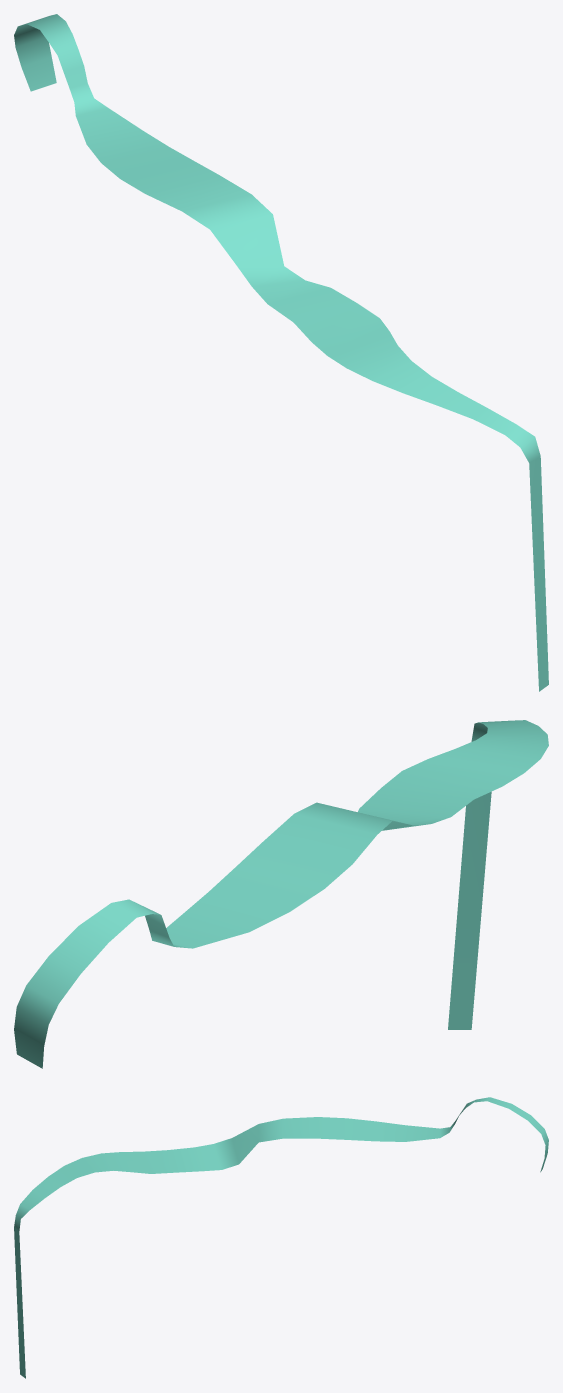
The model's file is Mesh_Home_RF_River_04_SM.fbx.
3 renders of one model, top to bottom at view 1: azimuth 30°, elevation 25°; view 2: azimuth 150°, elevation 25°; view 3: azimuth 270°, elevation 25°, orthographic. The views are drawn at different scales.
Parts seen in each view (by area): view 1: Mesh_Home_RF_River_04; view 2: Mesh_Home_RF_River_04; view 3: Mesh_Home_RF_River_04.
Boxes of the visible parts, <box> form: Mesh_Home_RF_River_04: <box>14,14,548,691</box>; Mesh_Home_RF_River_04: <box>14,720,548,1068</box>; Mesh_Home_RF_River_04: <box>14,1097,548,1378</box>.
Bounding box in the file's own units: 1270 × 3043 × 5959.
1 material, 1 textured.
